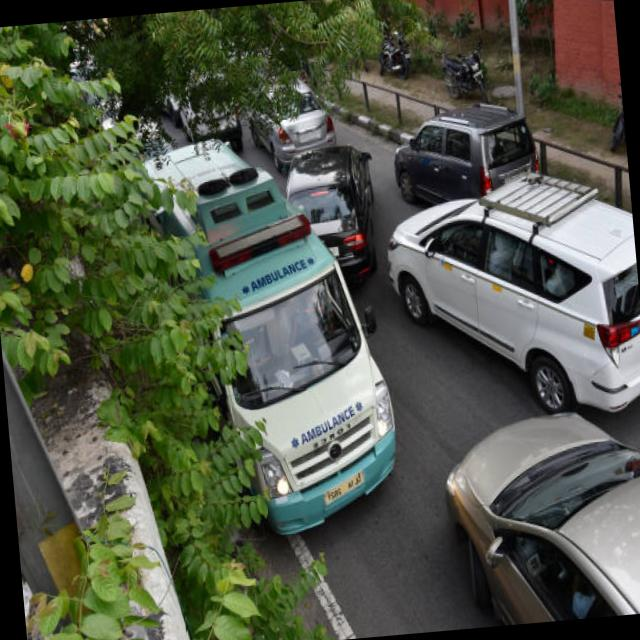ambulance: (196, 198, 328, 327)
